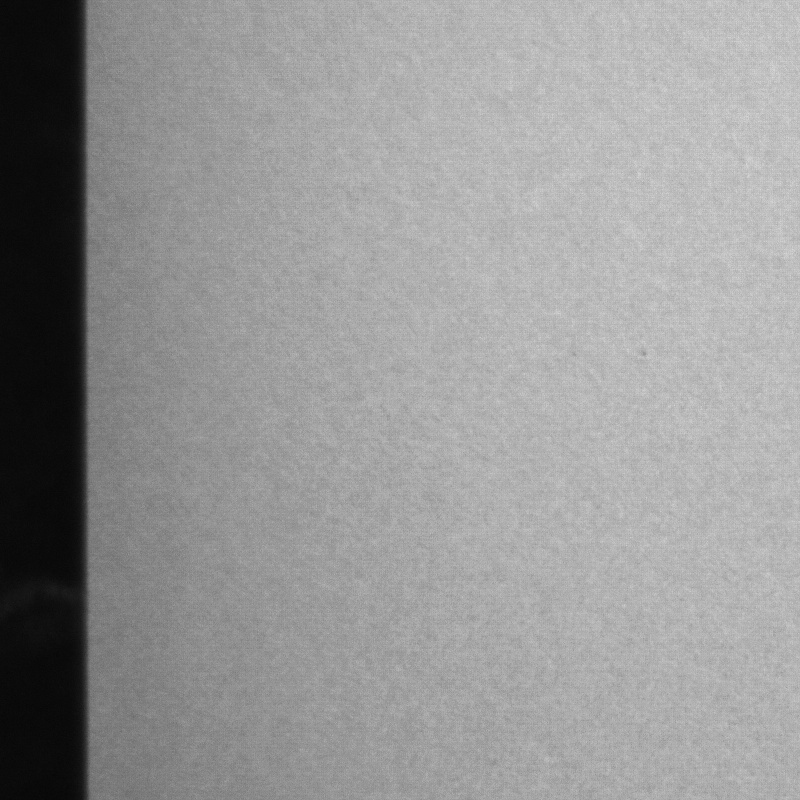defect: (643, 351, 645, 357)
